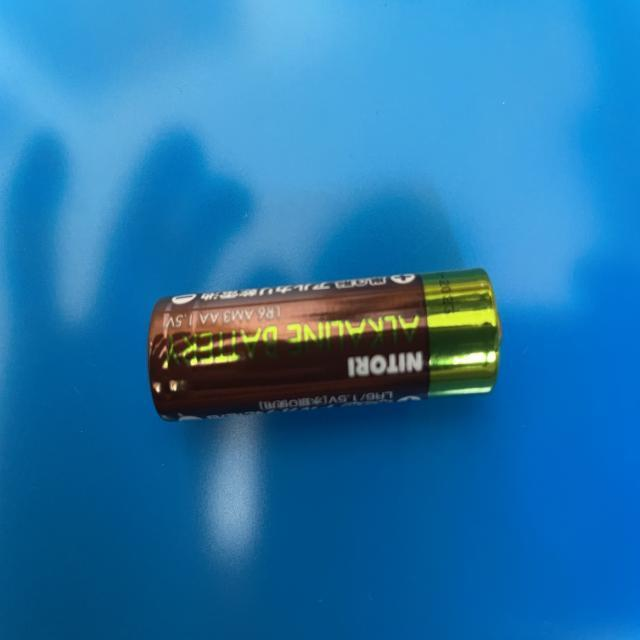AA: (144, 266, 506, 426)
